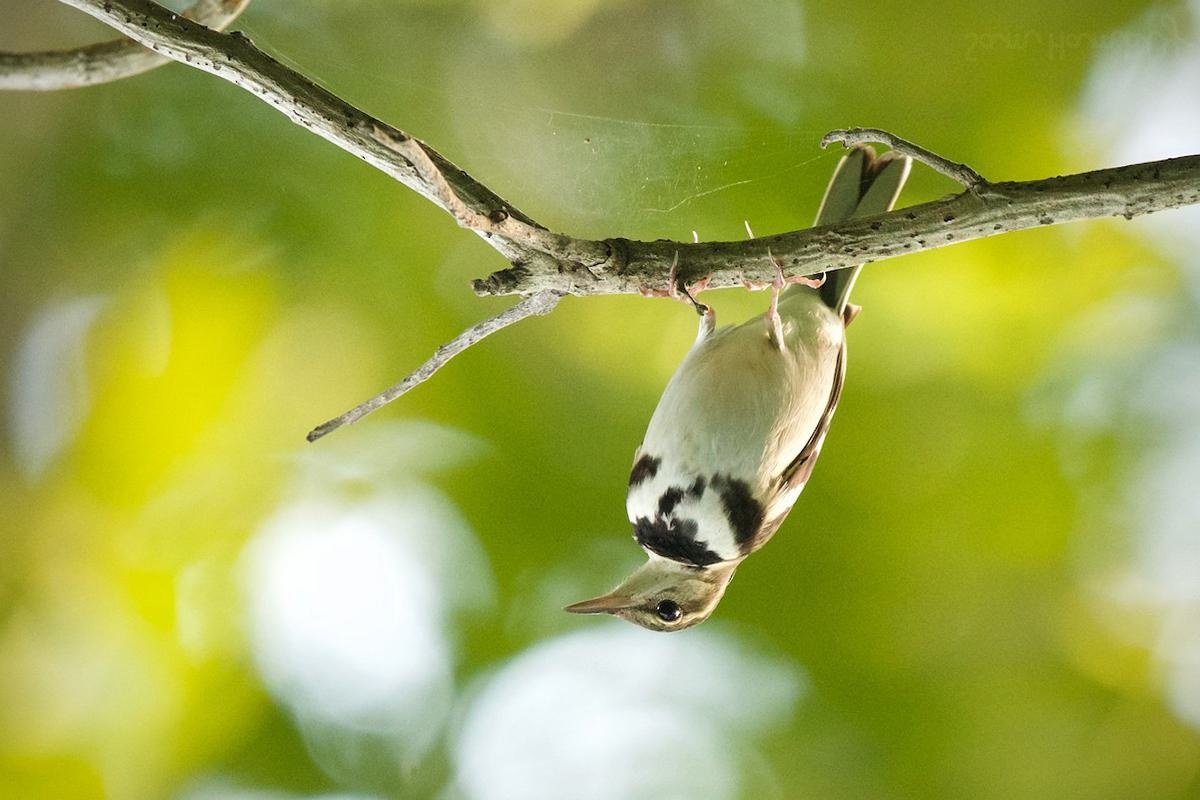wagtail: (554, 150, 944, 643)
